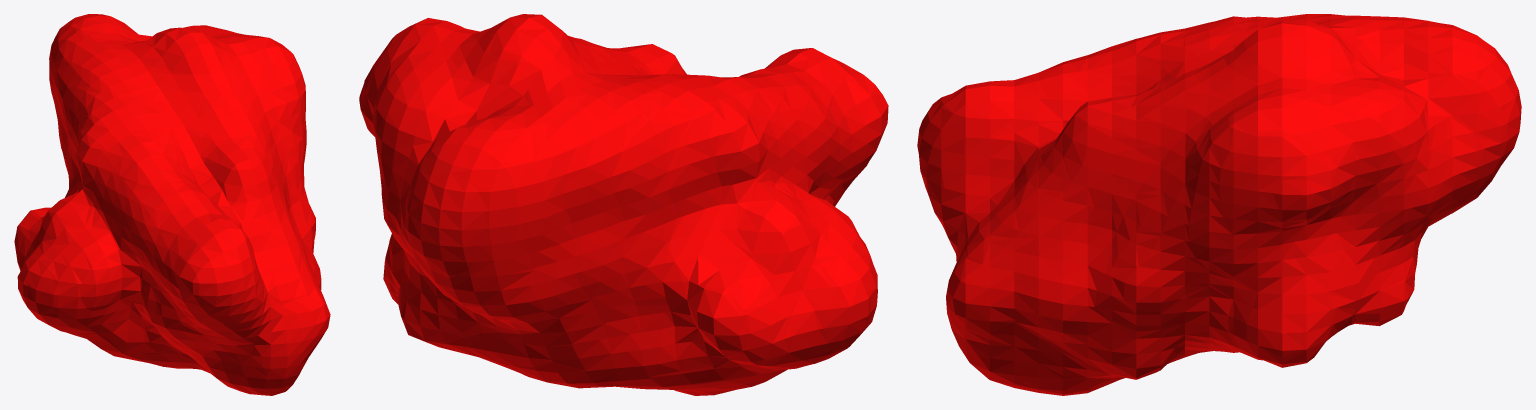
Rendered from pnuC_coarse.dae.
3 views of the same model, side by side, from view 1: azimuth 30°, elevation 25°; view 2: azimuth 150°, elevation 25°; view 3: azimuth 270°, elevation 25° (orthographic). The views are drawn at different scales.
Parts seen in each view (by area): view 1: pnuC; view 2: pnuC; view 3: pnuC.
Part boxes in pixels (bbox=[...]): pnuC: bbox=[14, 14, 330, 395]; pnuC: bbox=[359, 14, 888, 395]; pnuC: bbox=[917, 14, 1521, 395].
Bounding box in the file's own units: 51.85 × 45.65 × 65.38.
